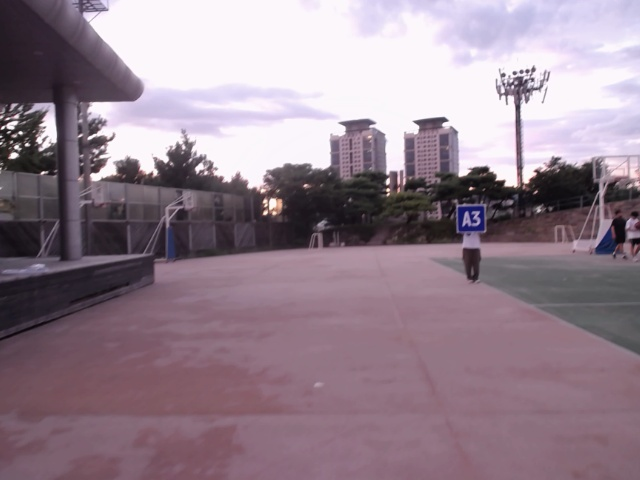delivery_a3: (458, 205, 485, 231)
